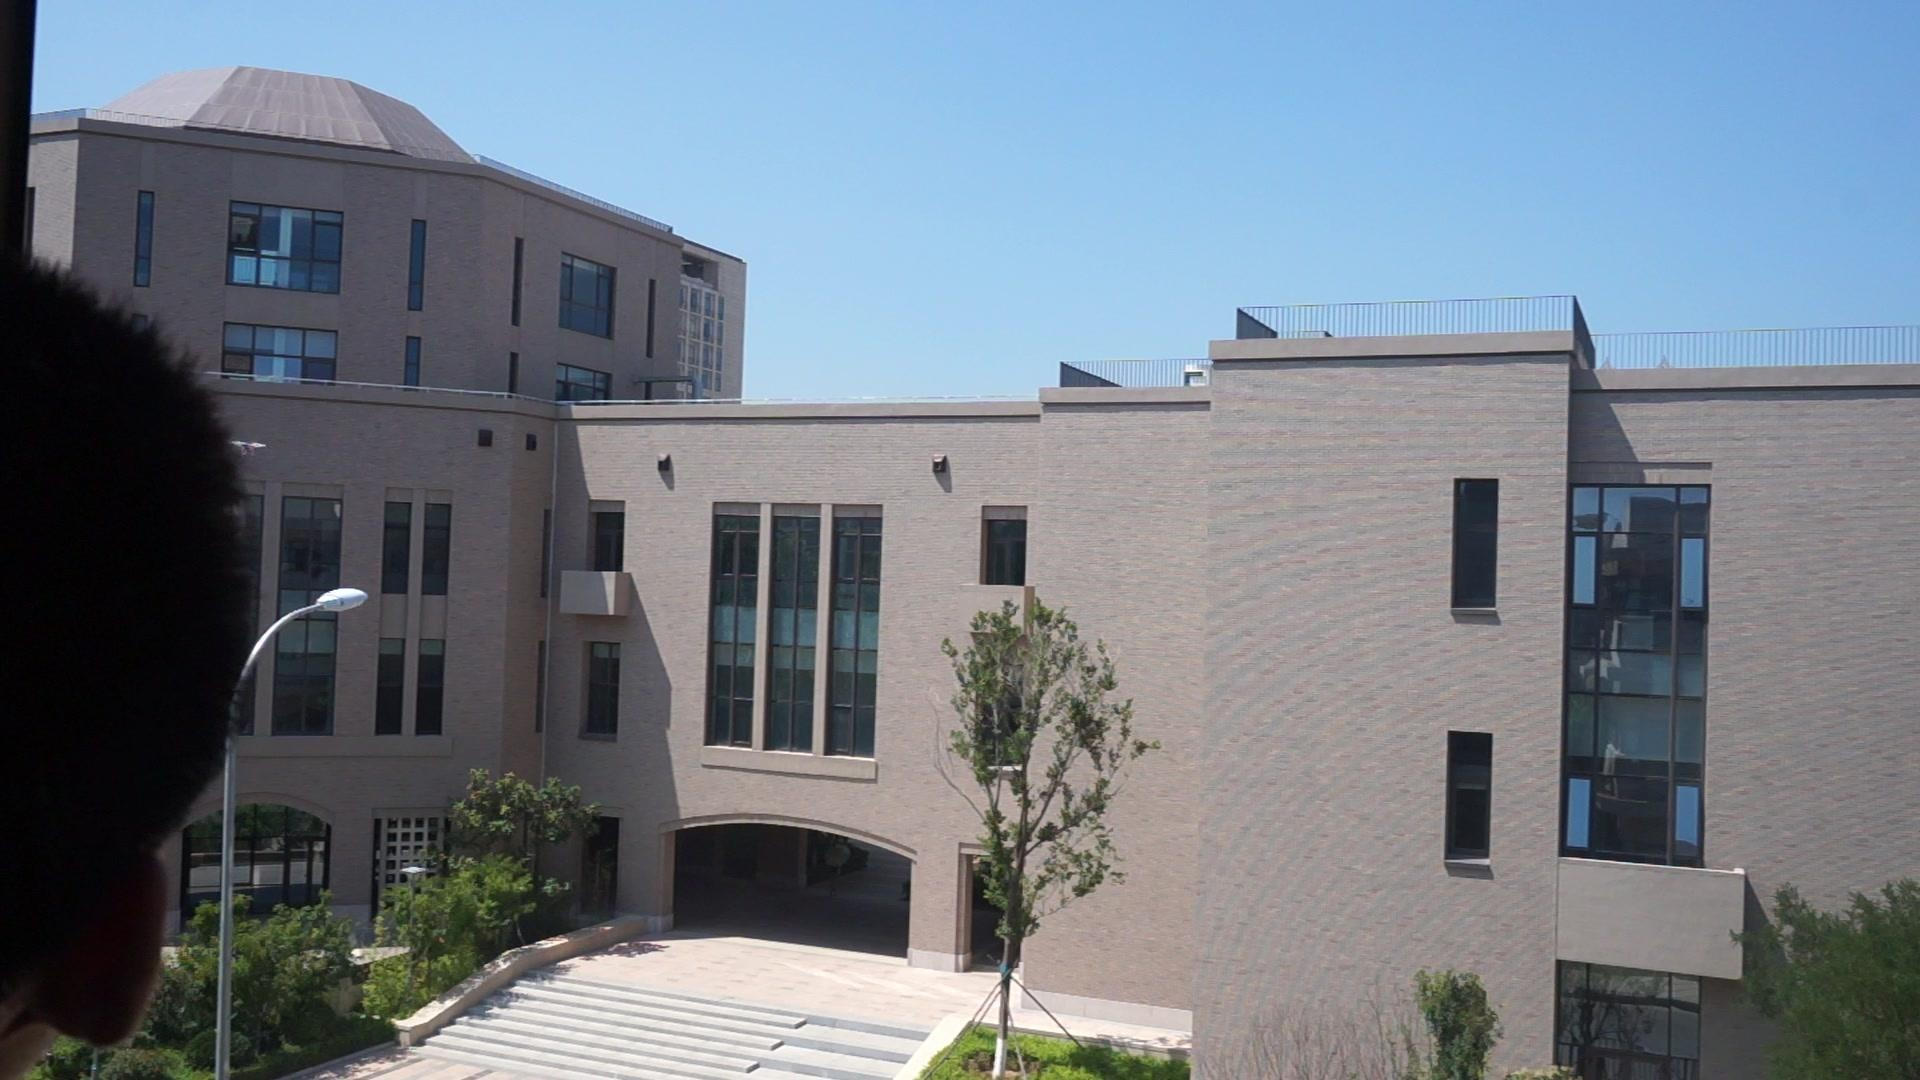UAV: (227, 442, 268, 458)
